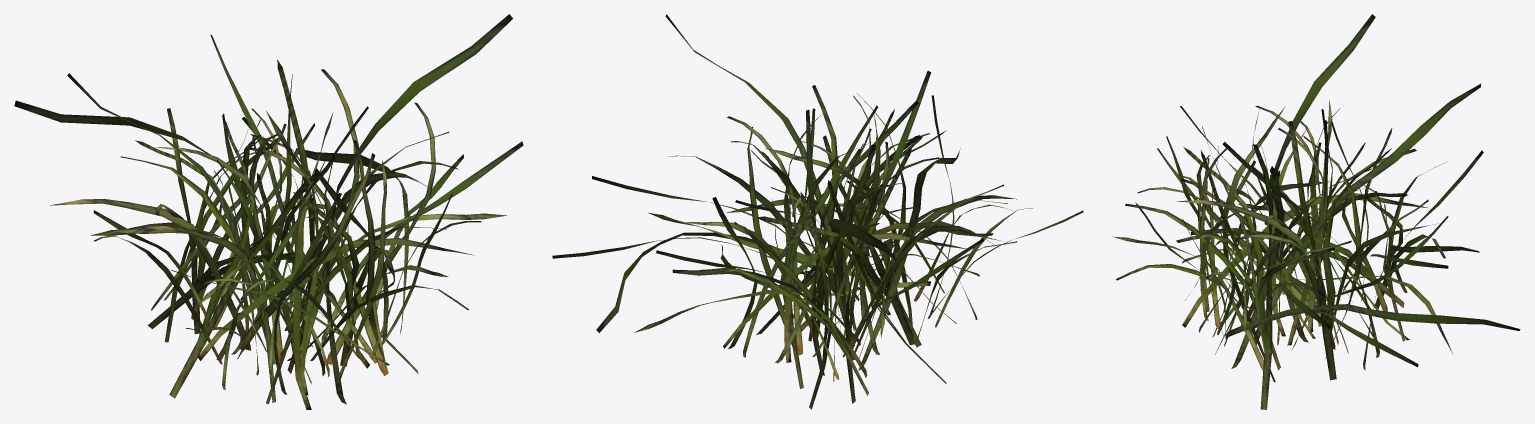
3 renders of one model, left to right at view 1: azimuth 30°, elevation 25°; view 2: azimuth 150°, elevation 25°; view 3: azimuth 270°, elevation 25°, orthographic. The views are drawn at different scales.
Visible parts, largest first — view 1: grass_medium_01_large_a_LOD0; view 2: grass_medium_01_large_a_LOD0; view 3: grass_medium_01_large_a_LOD0.
Boxes of the visible parts, x1=… form: grass_medium_01_large_a_LOD0: x1=14, y1=14, x2=523, y2=409; grass_medium_01_large_a_LOD0: x1=552, y1=14, x2=1083, y2=409; grass_medium_01_large_a_LOD0: x1=1113, y1=14, x2=1520, y2=409.
Size of the model in its own units: 0.4107 by 0.2886 by 0.3661.
Materials: 1 (1 with a texture image).
